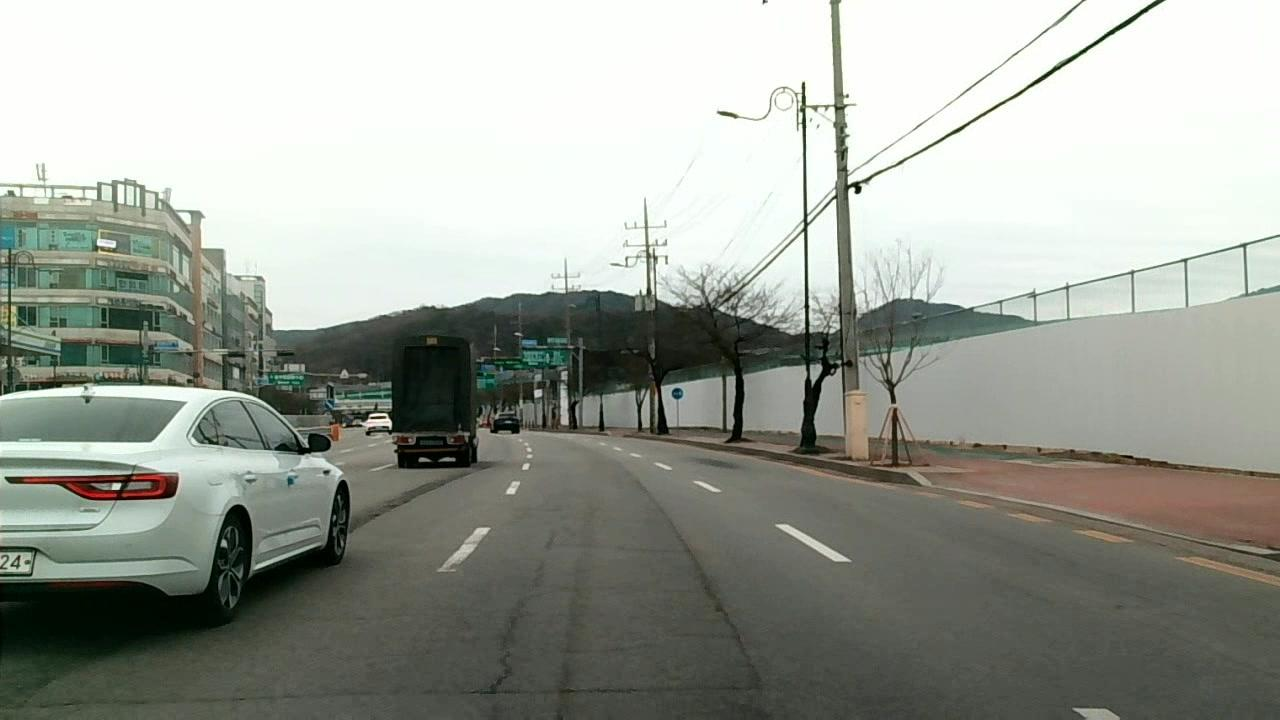vcrack: (24, 680, 741, 704), (659, 516, 754, 671), (489, 556, 545, 682), (350, 471, 468, 530)
